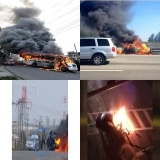fire: (20, 51, 73, 71), (117, 37, 152, 56), (113, 105, 133, 132), (55, 132, 68, 154)
